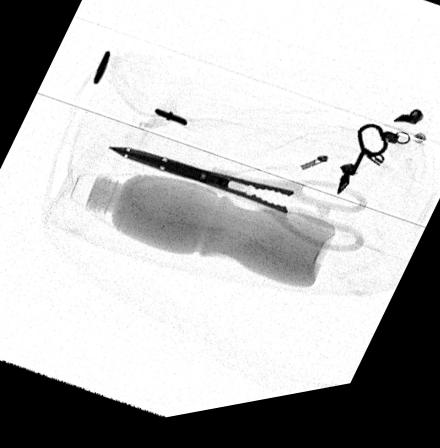Scissors: (105, 150, 372, 265)
